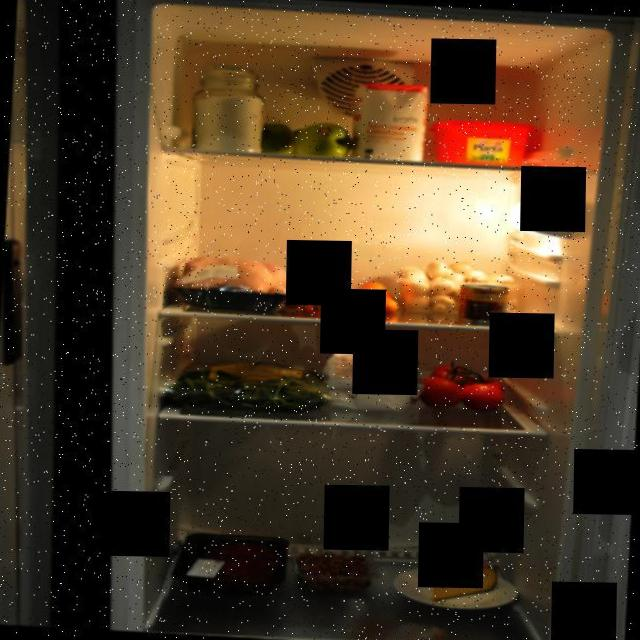Carne pollo: (172, 250, 294, 312)
Carne vacuno: (169, 530, 289, 596)
Champiñones: (390, 256, 518, 314)
Gambas/Langostinos: (290, 548, 372, 592)
Mantequilla: (426, 116, 536, 167)
Manzana: (250, 117, 360, 161)
Queso: (428, 554, 502, 604)
Tomate: (417, 358, 509, 413)
Zanahoria: (283, 276, 402, 321)
